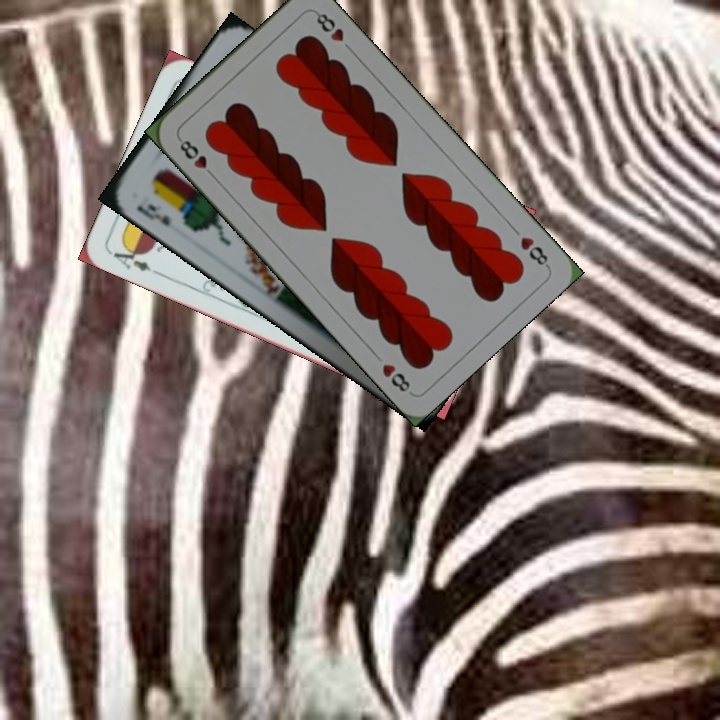EA: (109, 239, 163, 278)
EK: (132, 199, 174, 229)
H8: (174, 134, 219, 181), (516, 232, 552, 270)
